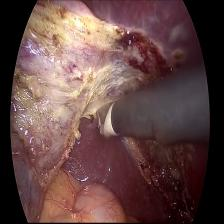Hook: (92, 102, 120, 150)
